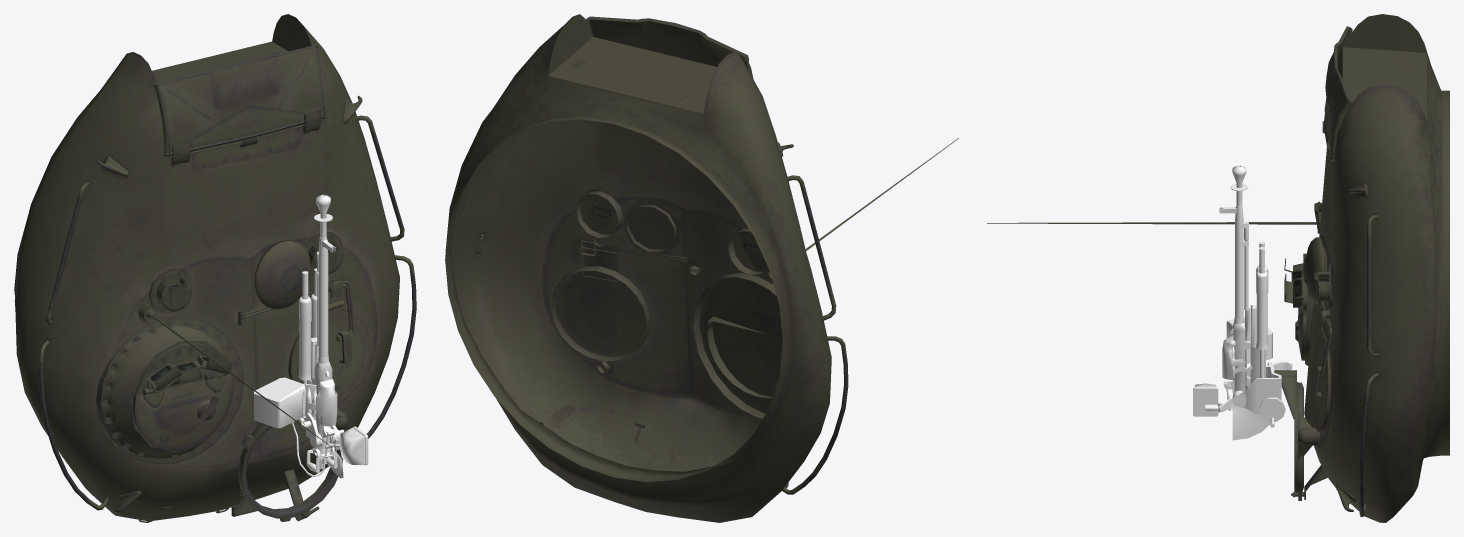
Rendered from Turret_01.glb.
The picture shows the model from 3 angles, left to right: view 1: azimuth 30°, elevation 25°; view 2: azimuth 150°, elevation 25°; view 3: azimuth 270°, elevation 25°; orthographic projection. The views are drawn at different scales.
Parts seen in each view (by area): view 1: set_0_group_0, set_0_group_1; view 2: set_0_group_0; view 3: set_0_group_0, set_0_group_1.
Part boxes in pixels (x1,y1,x2,y2): set_0_group_0: [14, 14, 416, 522]; set_0_group_1: [254, 194, 368, 478]; set_0_group_0: [445, 14, 958, 522]; set_0_group_0: [987, 14, 1449, 522]; set_0_group_1: [1193, 165, 1292, 440].
Size of the model in its own units: 2.33 by 2.81 by 2.65.
Materials: 2 (1 with a texture image).
